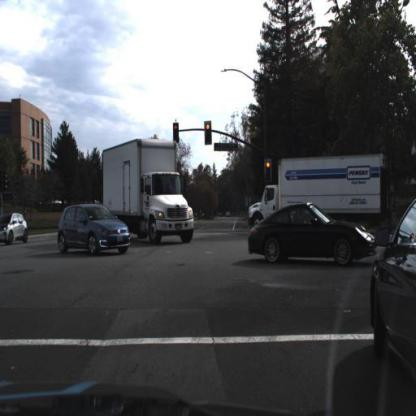biker: (382, 198, 396, 235)
car: (369, 190, 416, 412), (371, 189, 416, 373), (248, 204, 376, 263), (58, 199, 132, 257), (2, 213, 31, 246)
trafficLight-Red: (204, 120, 214, 147)
trafficLight-RedLeft: (172, 121, 180, 144)
truck: (246, 153, 388, 239), (101, 137, 197, 244)
